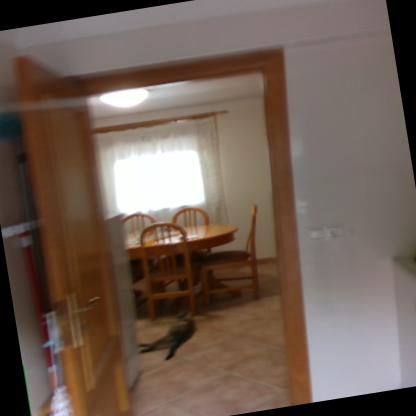open: (10, 12, 336, 415)
